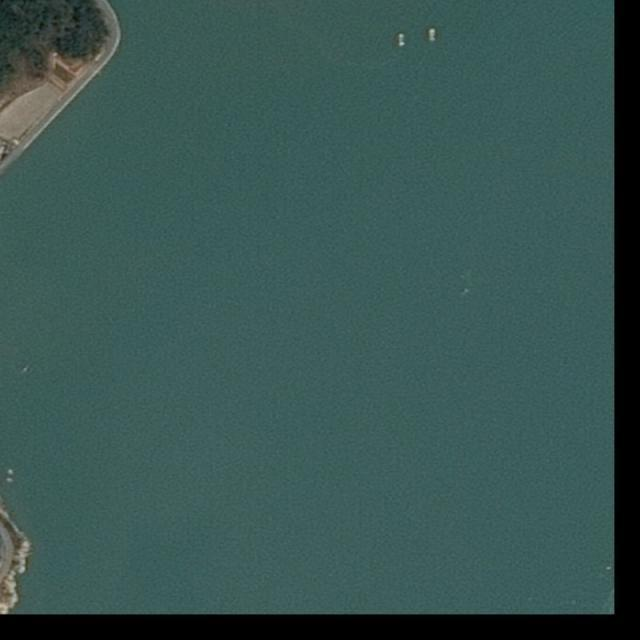ship: (428, 28, 436, 41), (398, 34, 405, 46)
